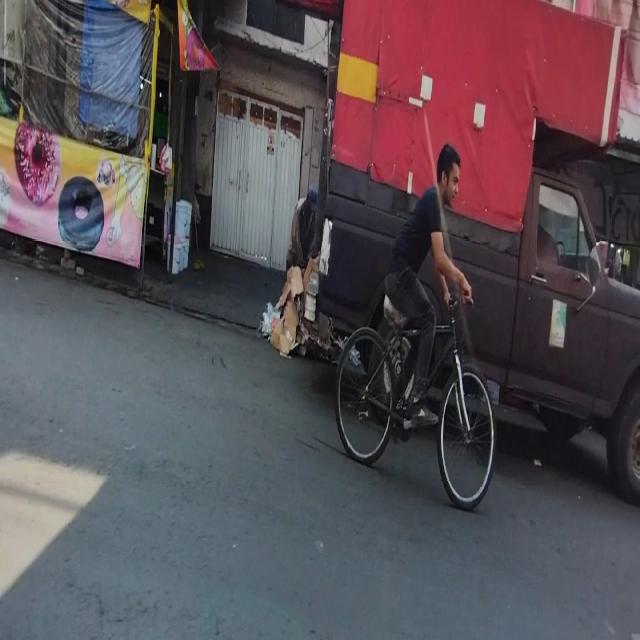adult: (387, 143, 472, 424), (286, 186, 317, 274)
